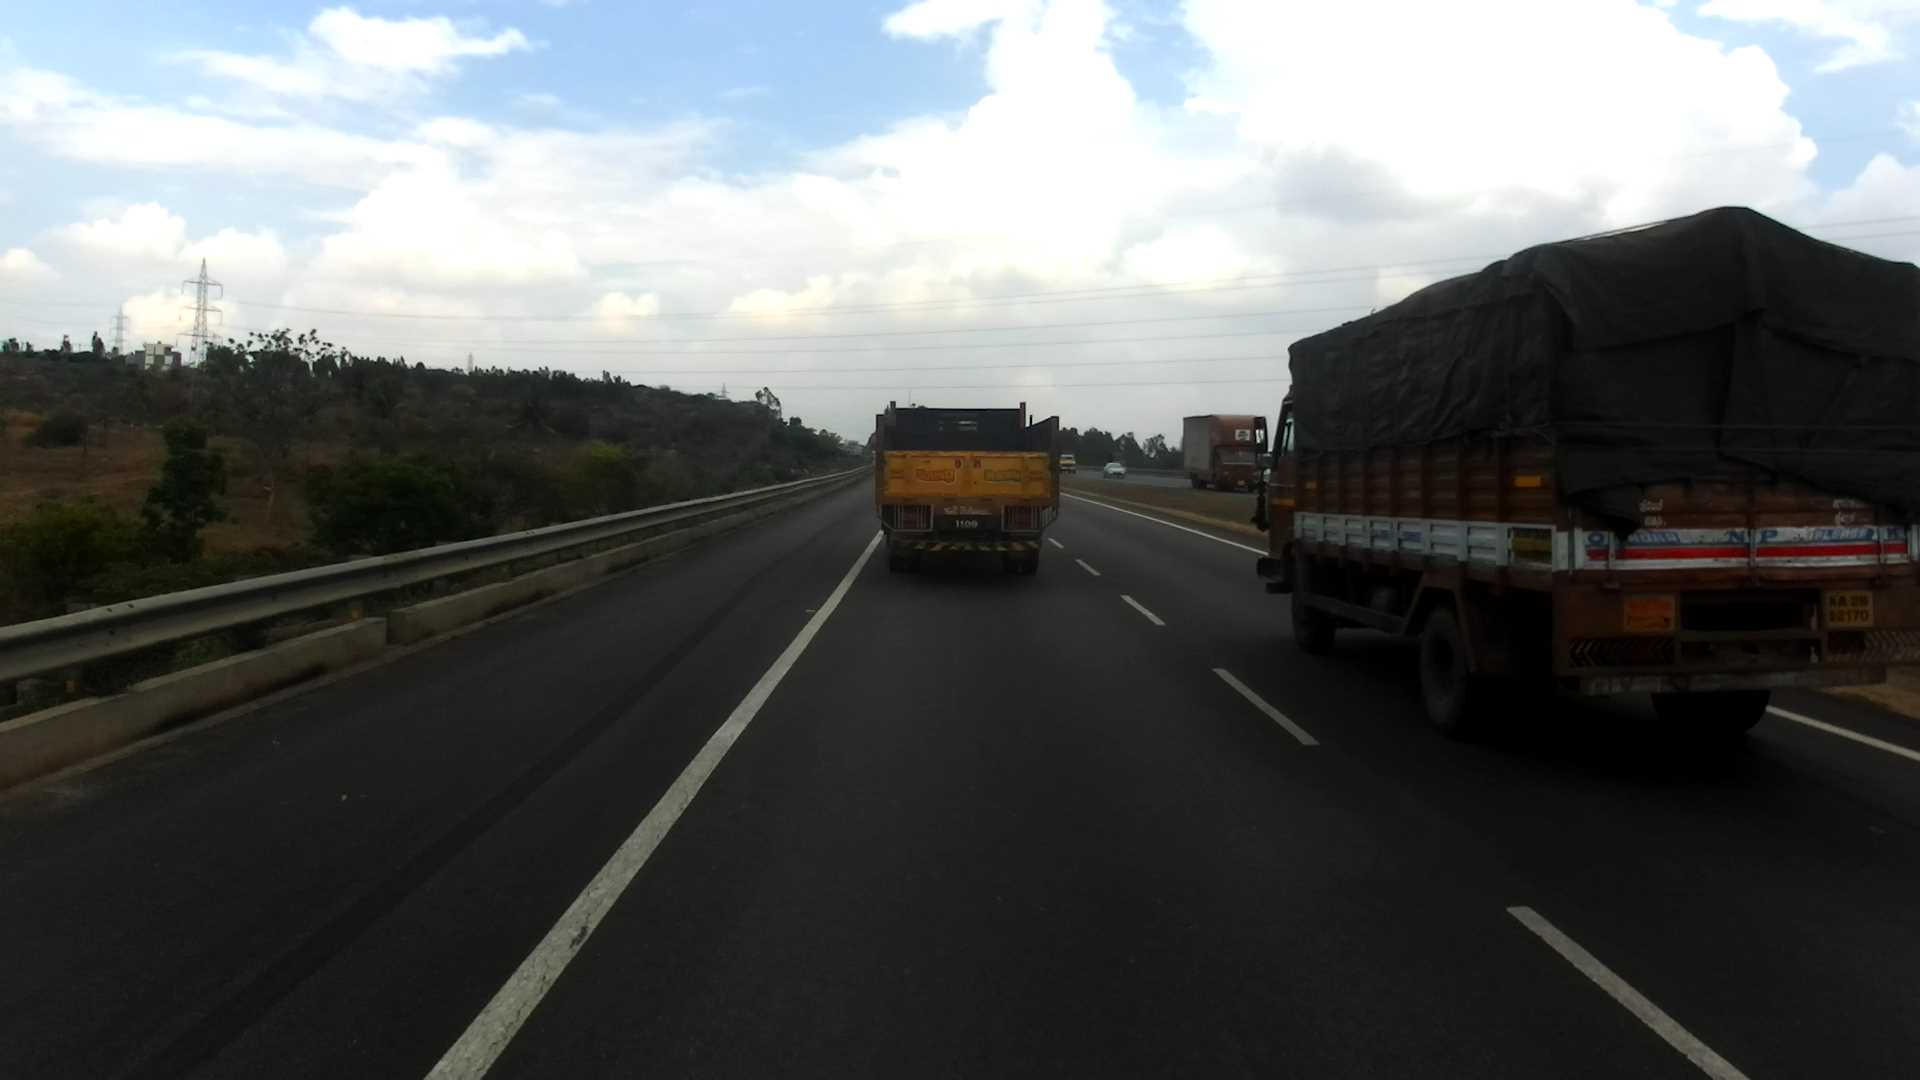car: (1096, 452, 1136, 483)
truck: (1242, 211, 1920, 792), (864, 397, 1107, 587), (1174, 407, 1289, 502), (1050, 437, 1101, 484)
